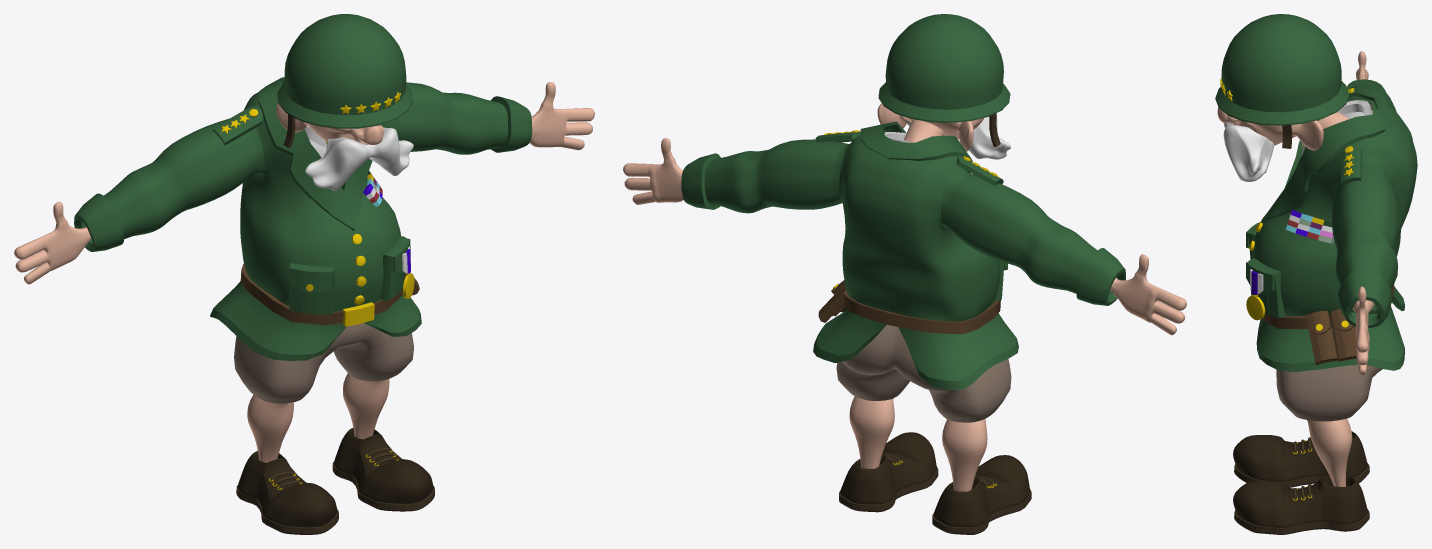
The model's file is General_DoneMesh_BEST_AltColor.fbx.
The picture shows the model from 3 angles, left to right: view 1: azimuth 30°, elevation 25°; view 2: azimuth 150°, elevation 25°; view 3: azimuth 270°, elevation 25°; orthographic projection. The views are drawn at different scales.
Visible parts, largest first — view 1: pCube3, pCube24, pCube14, polySurface6, pCube26, pCube5, pCylinder28, polySurface2, polySurface24, polySurface23, pCylinder30, pCube21 (+3 smaller); view 2: pCube3, pCube24, pCube14, pCube26, polySurface6, pCylinder30, polySurface24, pCube21, pCube15, pCube5, polySurface23, polySurface1 (+2 smaller); view 3: pCube3, pCube24, polySurface6, pCube26, pCube14, pCube5, pCylinder30, polySurface2, pCylinder28, pCube15, polySurface1, polySurface23 (+5 smaller).
Part boxes in pixels (x1=…): pCube3: x1=74, y1=82, x2=532, y2=360; pCube24: x1=277, y1=14, x2=412, y2=147; pCube14: x1=234, y1=323, x2=413, y2=403; polySurface6: x1=332, y1=428, x2=434, y2=511; pCube26: x1=236, y1=450, x2=338, y2=534; pCube5: x1=258, y1=77, x2=372, y2=230; pCylinder28: x1=289, y1=236, x2=414, y2=314; polySurface2: x1=305, y1=127, x2=413, y2=190; polySurface24: x1=14, y1=201, x2=91, y2=284; polySurface23: x1=529, y1=82, x2=594, y2=150; pCylinder30: x1=240, y1=263, x2=419, y2=326; pCube21: x1=247, y1=395, x2=293, y2=462; pCube3: x1=681, y1=128, x2=1125, y2=390; pCube24: x1=878, y1=14, x2=1010, y2=146; pCube14: x1=836, y1=324, x2=1011, y2=422; pCube26: x1=932, y1=455, x2=1031, y2=534; polySurface6: x1=839, y1=432, x2=938, y2=512; pCylinder30: x1=818, y1=280, x2=1000, y2=333; polySurface24: x1=1110, y1=254, x2=1186, y2=335; pCube21: x1=942, y1=419, x2=987, y2=491; pCube15: x1=849, y1=396, x2=894, y2=468; pCube5: x1=860, y1=121, x2=972, y2=173; polySurface23: x1=623, y1=138, x2=683, y2=204; polySurface1: x1=877, y1=103, x2=983, y2=151; pCube3: x1=1252, y1=79, x2=1417, y2=371; pCube24: x1=1215, y1=14, x2=1349, y2=148; polySurface6: x1=1233, y1=475, x2=1369, y2=534; pCube26: x1=1233, y1=431, x2=1369, y2=487; pCube14: x1=1276, y1=365, x2=1382, y2=421; pCube5: x1=1263, y1=91, x2=1393, y2=220; pCylinder30: x1=1260, y1=284, x2=1394, y2=365; polySurface2: x1=1223, y1=122, x2=1274, y2=181; pCylinder28: x1=1246, y1=221, x2=1284, y2=320; pCube15: x1=1307, y1=418, x2=1352, y2=486; polySurface1: x1=1217, y1=107, x2=1323, y2=150; polySurface23: x1=1352, y1=286, x2=1374, y2=375.
Bounding box in the file's own units: 108 × 86.88 × 33.4.
